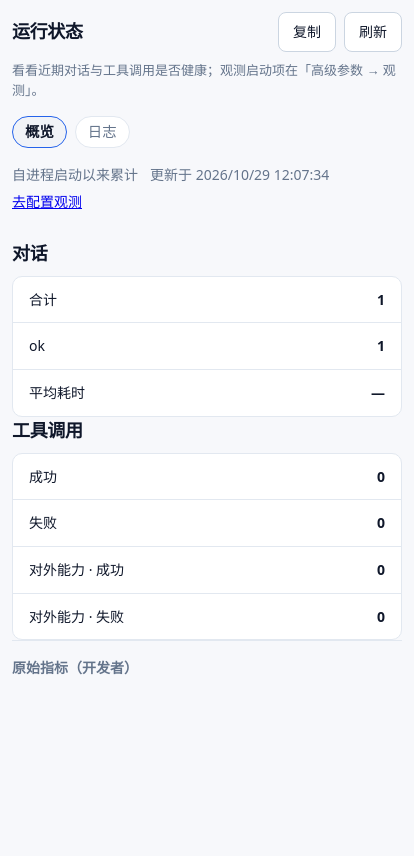
MetricsSettings › switches to logs tab and loads recent lines
The image size is (414, 856).
Click the tab with test id "metrics-tab-logs".
click(102, 132)  # box top-left (75, 116), bottom-right (130, 148)
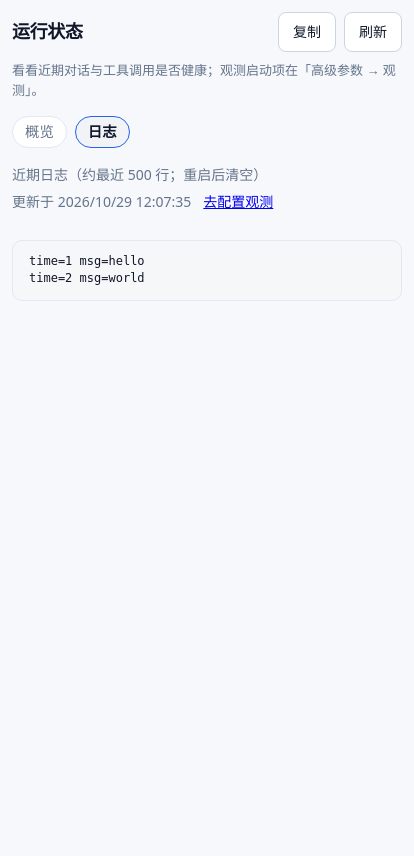
Check: the text with test id "logs-body" shows "msg=hello", box top-left (29, 254), bottom-right (145, 285)
Check: the text with test id "logs-body" shows "msg=world", box top-left (29, 254), bottom-right (145, 285)
